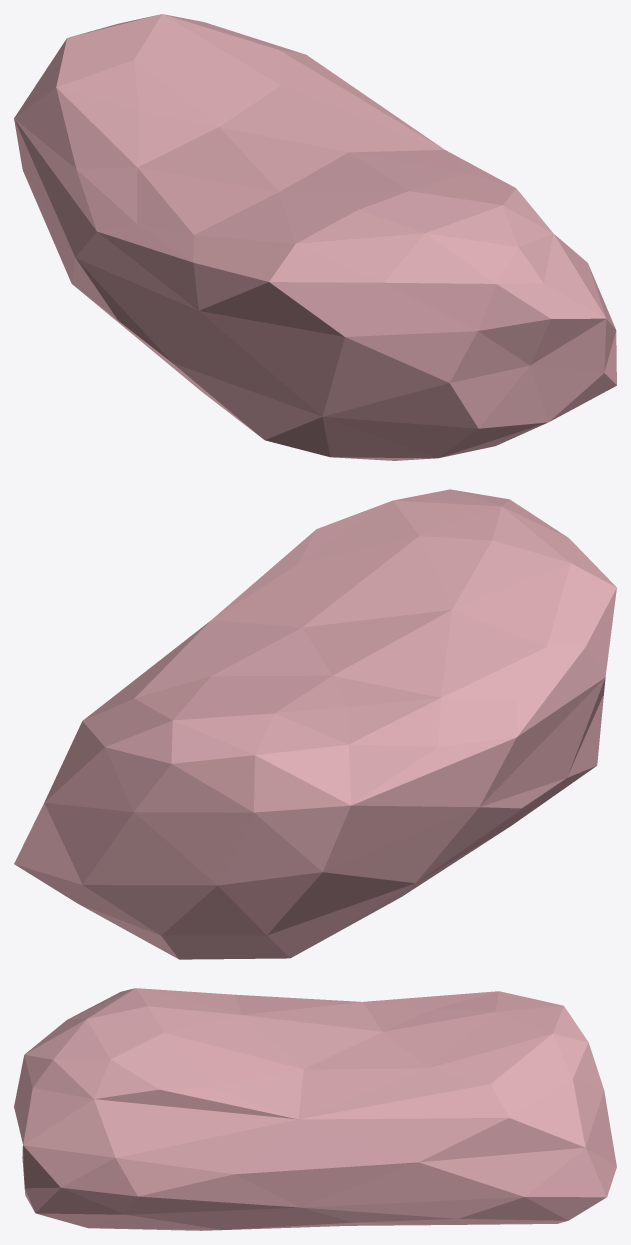
3 views of the same model, one above another, from view 1: azimuth 30°, elevation 25°; view 2: azimuth 150°, elevation 25°; view 3: azimuth 270°, elevation 25° (orthographic). The views are drawn at different scales.
Visible parts, largest first — view 1: 1120.obj; view 2: 1120.obj; view 3: 1120.obj.
Part boxes in pixels (left/top/right/bottom): 1120.obj: left=14, top=14, right=616, bottom=460; 1120.obj: left=14, top=489, right=616, bottom=959; 1120.obj: left=14, top=988, right=616, bottom=1230.
Size of the model in its own units: 322 by 207 by 576.
